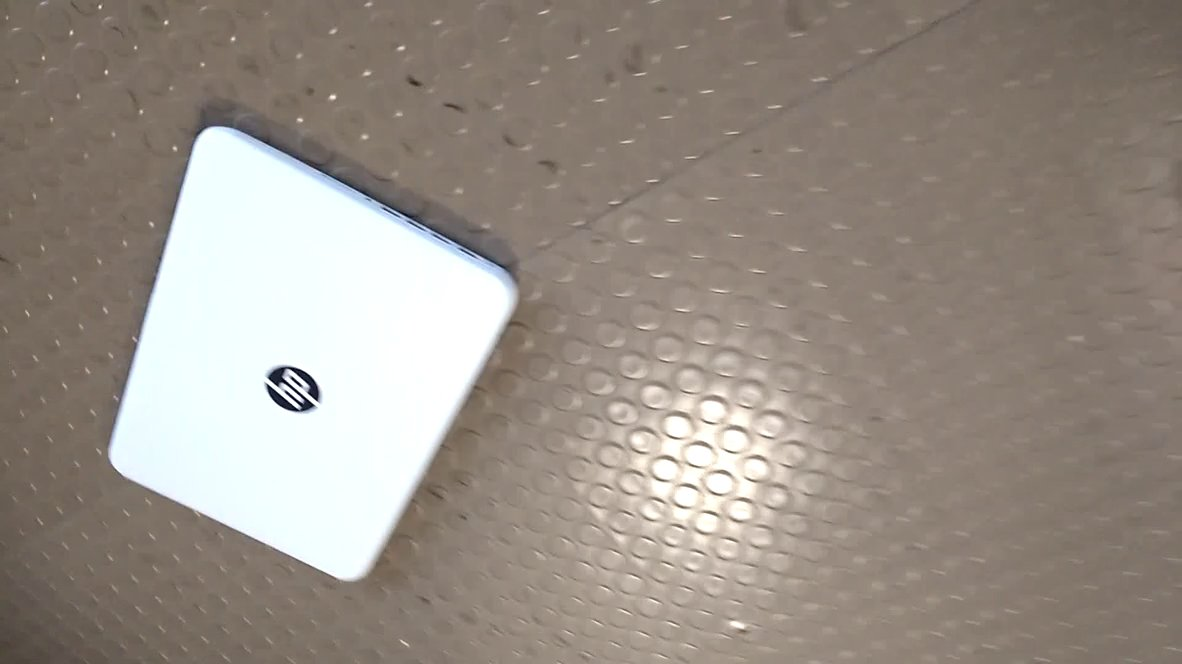laptop: (97, 109, 530, 594)
